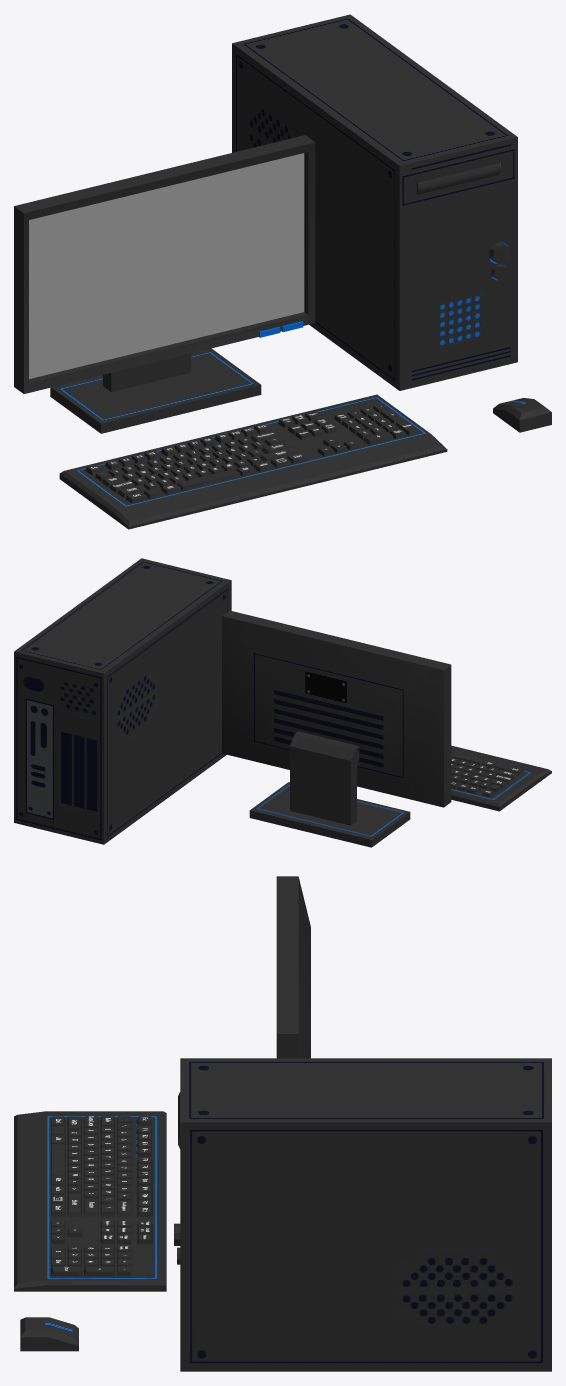
The model's file is Computer-transformed.glb.
The picture shows the model from 3 angles, top to bottom: view 1: azimuth 30°, elevation 25°; view 2: azimuth 150°, elevation 25°; view 3: azimuth 270°, elevation 25°; orthographic projection. The views are drawn at different scales.
Visible parts, largest first — view 1: Comp_Mouse; view 2: Comp_Mouse; view 3: Comp_Mouse.
Boxes of the visible parts, x1,y1,x2,y2 form: Comp_Mouse: (14, 14, 551, 529); Comp_Mouse: (14, 558, 551, 847); Comp_Mouse: (14, 876, 551, 1371).
Bounding box in the file's own units: 605 × 284 × 547.
Materials: 2 (1 with a texture image).
